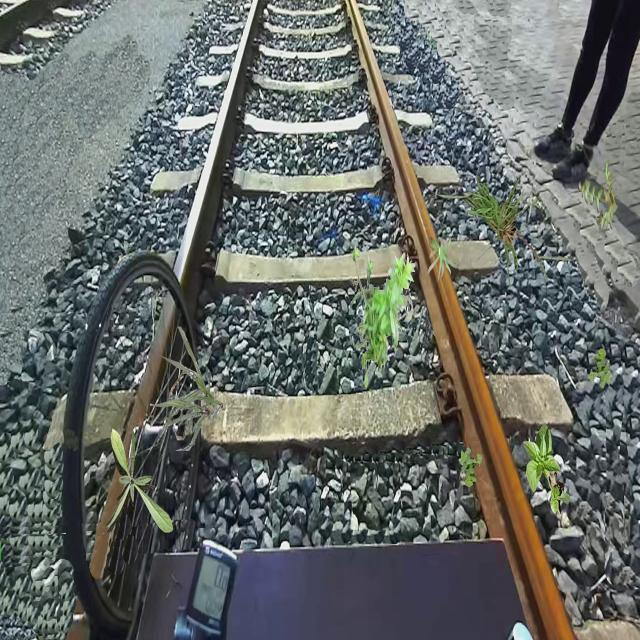Plant: (428, 172, 572, 292), (351, 245, 416, 388), (150, 326, 223, 451), (102, 427, 174, 535), (523, 423, 571, 518), (578, 160, 620, 232), (427, 236, 460, 282), (589, 348, 613, 389), (459, 447, 483, 488)
